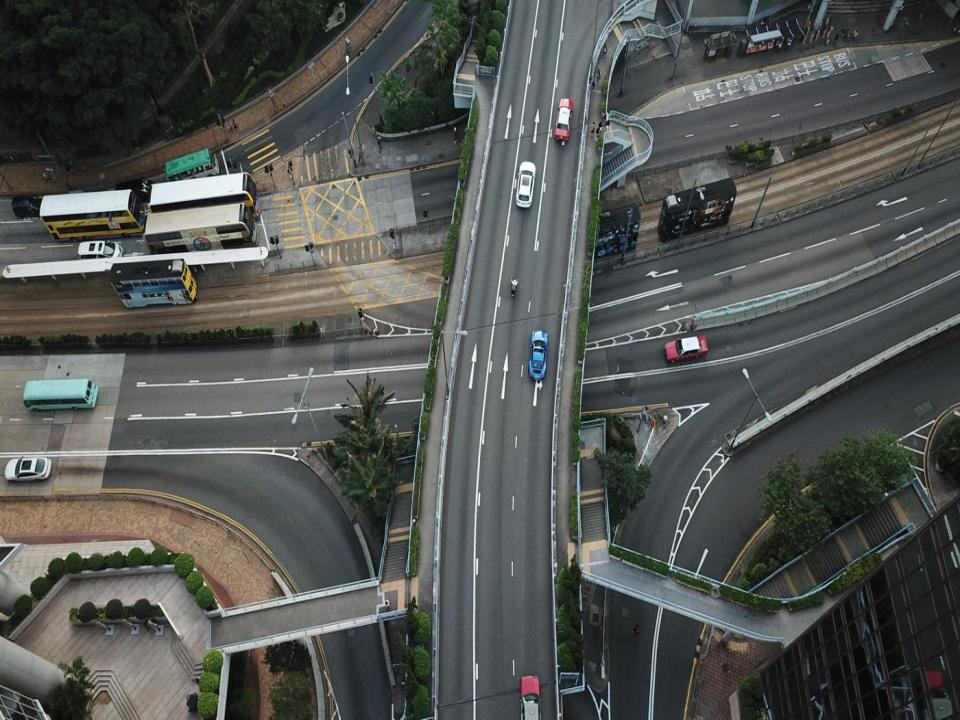bus: (144, 204, 257, 254), (36, 189, 144, 240), (656, 178, 735, 241), (148, 176, 256, 220), (109, 258, 196, 312), (23, 376, 95, 416)
car: (566, 203, 637, 256), (2, 455, 54, 484), (662, 332, 709, 364), (516, 155, 536, 210), (553, 95, 574, 146), (518, 675, 542, 719), (530, 326, 548, 383), (9, 194, 44, 216)
van: (163, 148, 222, 182)
